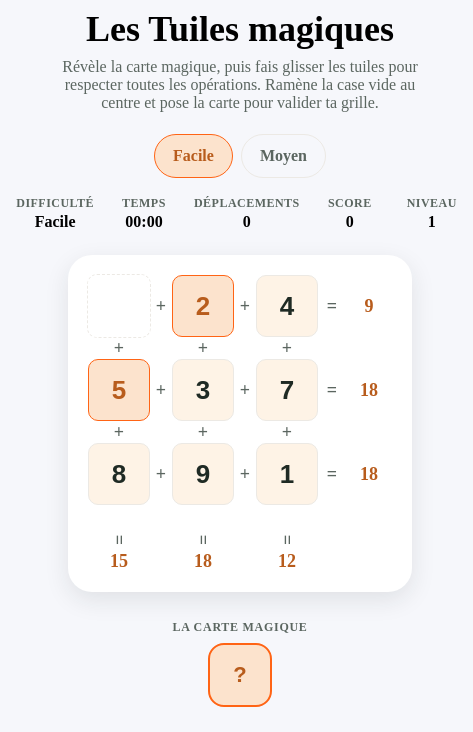
Test: Les Tuiles magiques › révèle la carte sans changer le statut ni les coups
Click the button named "Carte magique, valeur cachée. Appuie pour la révéler.". click: (240,675)
box: top-left (208, 643), bottom-right (272, 707)
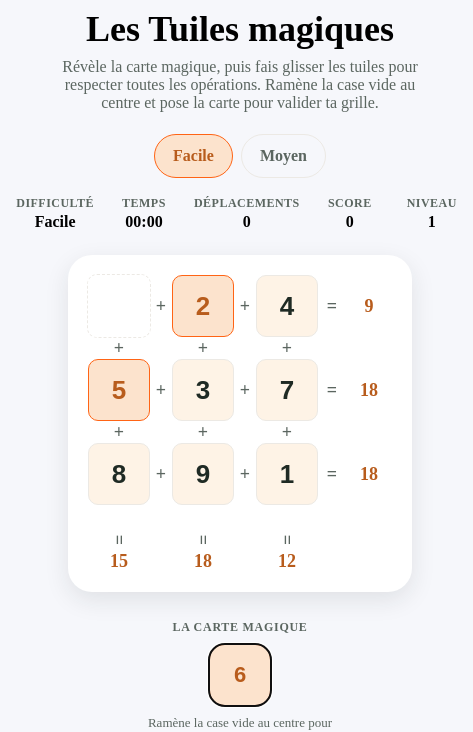
Result: the button named "Carte magique révélée" is shown at top-left (208, 643), bottom-right (272, 707)
